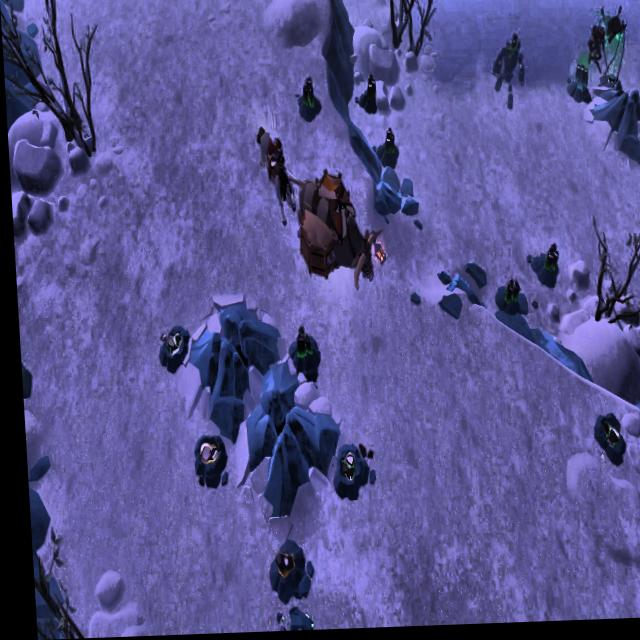enemy_factionUndead: (586, 25, 607, 85), (602, 15, 625, 55)
ore_t3: (290, 326, 311, 366), (298, 73, 316, 117), (497, 277, 518, 311), (379, 126, 395, 162), (541, 244, 556, 280), (364, 72, 375, 105)
ore_t4: (571, 68, 589, 106)
